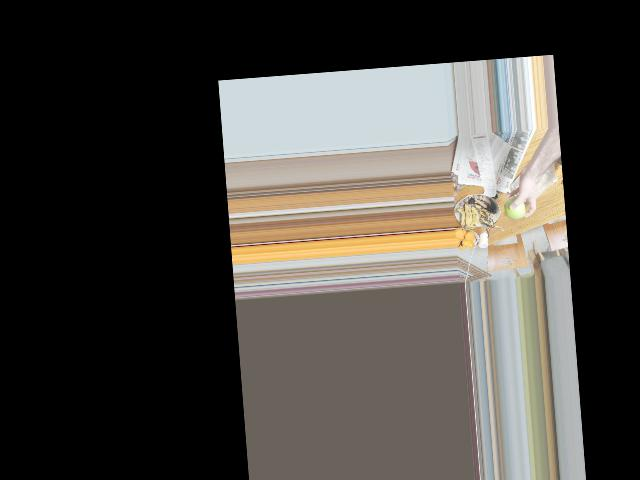apple: (503, 196, 526, 219)
